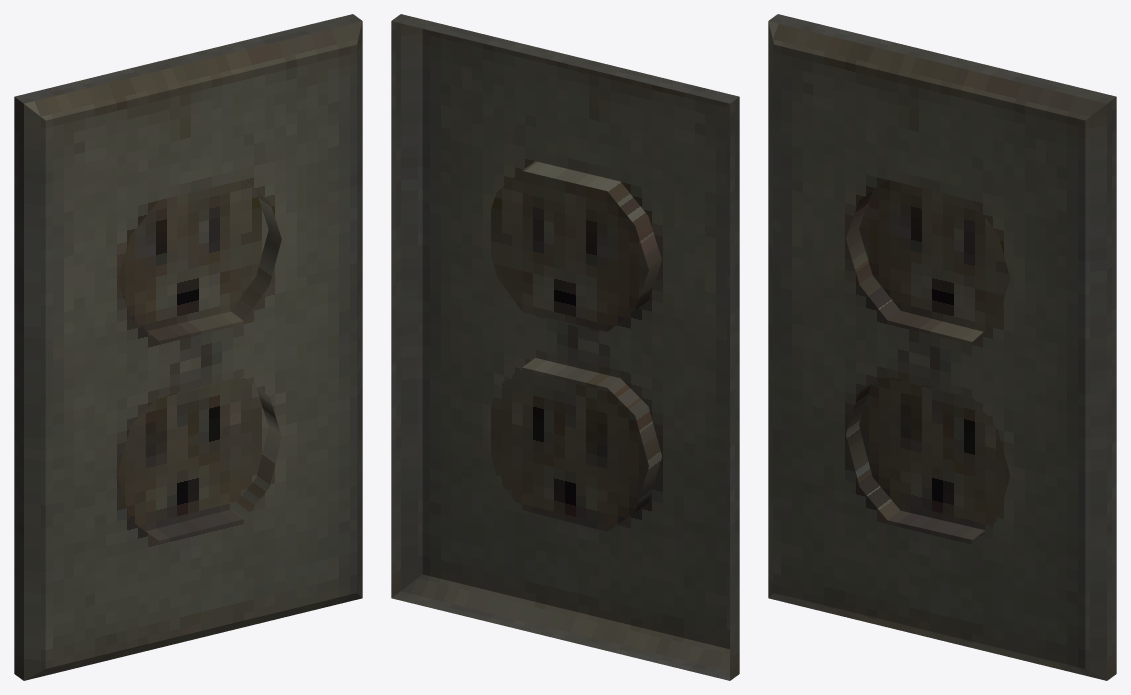
The model's file is electrical_outlet_1.glb.
3 views of the same model, side by side, from view 1: azimuth 30°, elevation 25°; view 2: azimuth 150°, elevation 25°; view 3: azimuth 330°, elevation 25° (orthographic).
Visible parts, largest first — view 1: electrical_outlet_1; view 2: electrical_outlet_1; view 3: electrical_outlet_1.
Boxes of the visible parts, bbox=[...] form: electrical_outlet_1: bbox=[14, 14, 362, 680]; electrical_outlet_1: bbox=[391, 14, 739, 680]; electrical_outlet_1: bbox=[768, 14, 1116, 680].
Size of the model in its own units: 0.1113 by 0.1812 by 0.01.
1 material, 1 textured.
